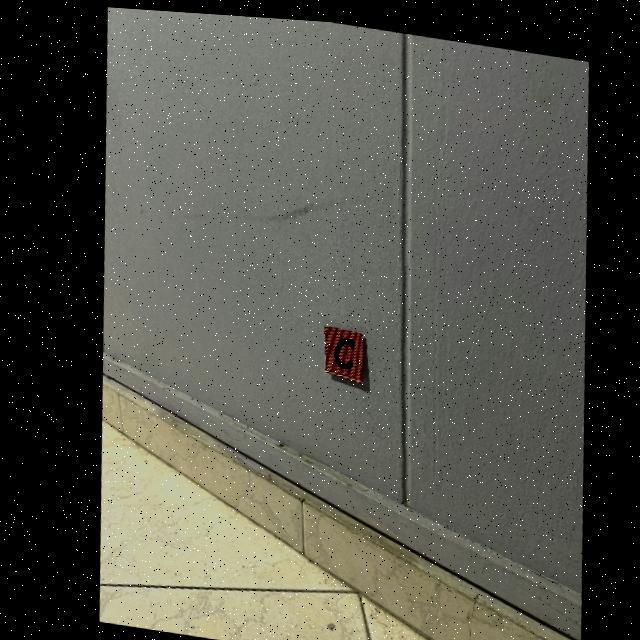C: (328, 333, 349, 364)
